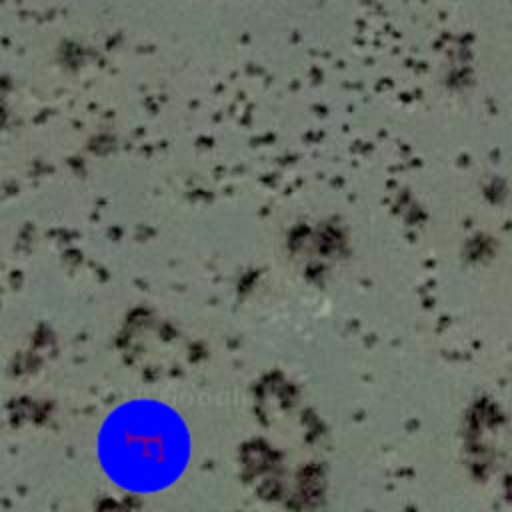circle: (90, 392, 198, 500)
